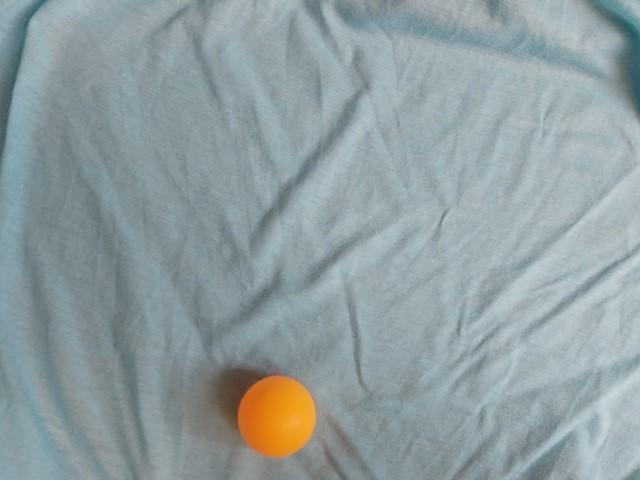oball: (307, 16, 407, 113)
